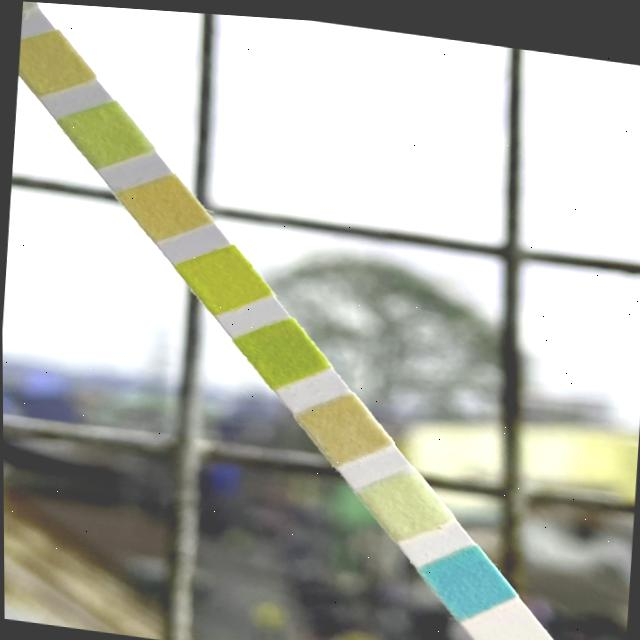Bilirubin: (371, 478, 431, 521)
Blood: (194, 256, 251, 298)
Glucose: (435, 552, 493, 599)
Ketone: (316, 403, 370, 444)
Protein: (71, 113, 134, 152)
SpGravity: (251, 330, 310, 368)
Urobilinogen: (18, 41, 75, 82)
pH: (134, 184, 191, 226)
